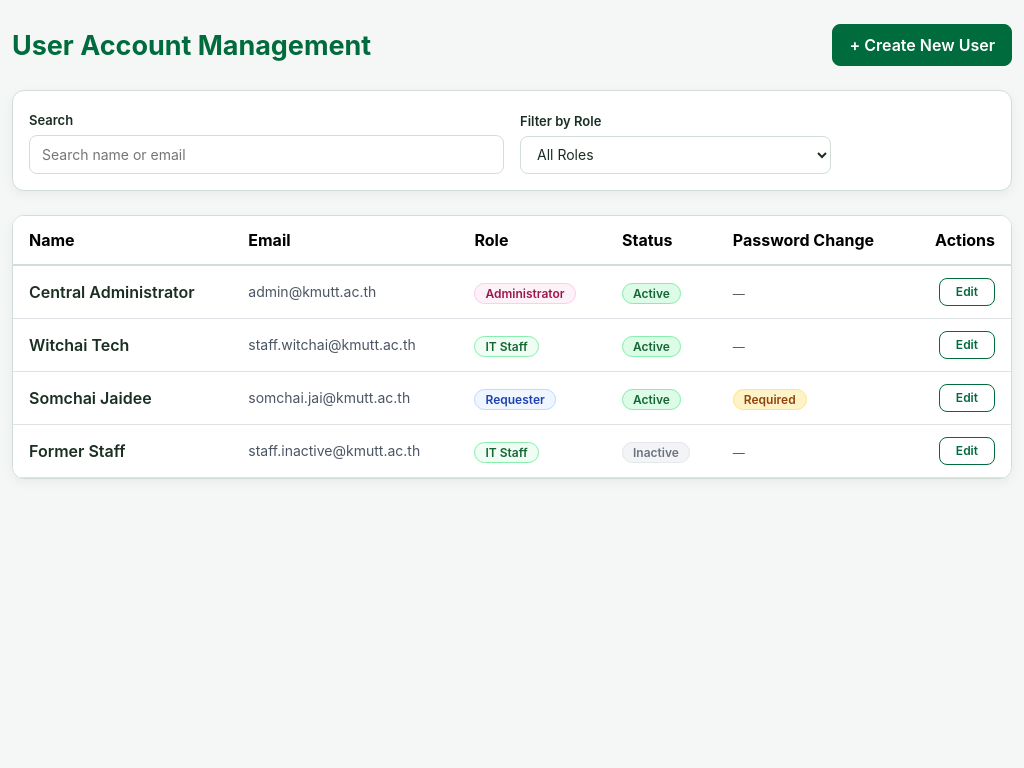
Test: Admin User Management Component UI Tests (ADMIN-UI-01, ADMIN-UI-02) › ADMIN-UI-02: Edit User Modal, Password Reset, and Deactivation Safety Checks › allows resetting initial password inside edit modal
This screenshot has width=1024, height=768.
Check: the text "Witchai Tech" is shown, box [13, 318, 232, 371]
Edit row for Witchai Tech
Click the button "Edit" in the row of "Witchai Tech" at (967, 344), box [939, 330, 995, 358]
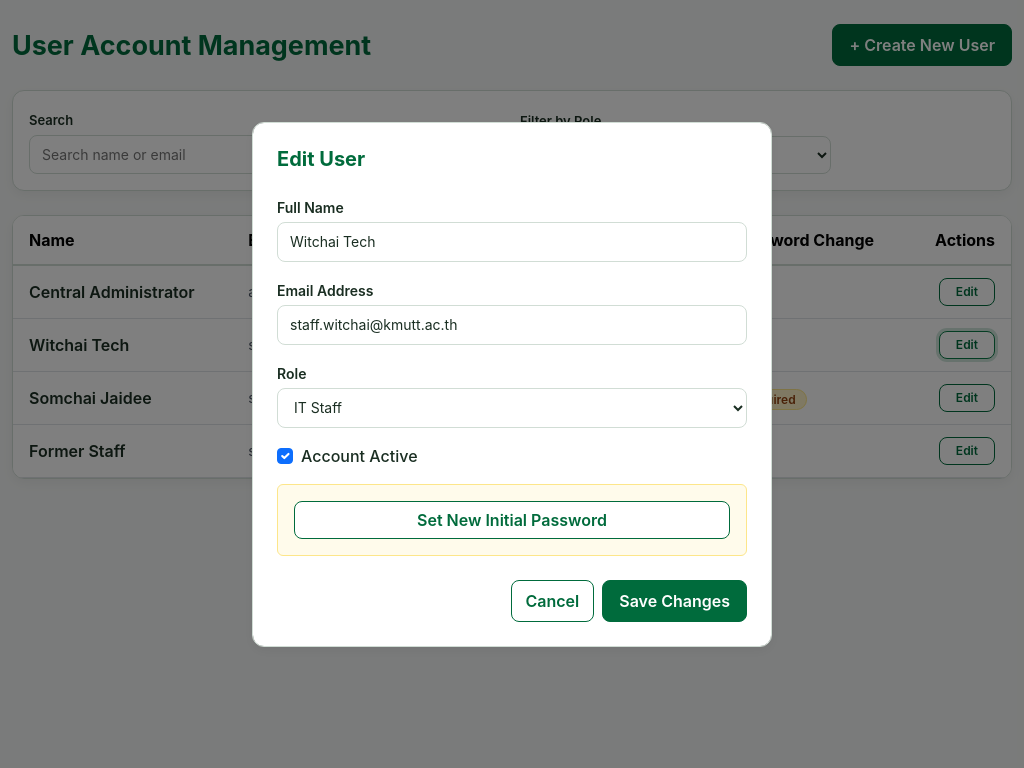
Open password reset section
Click the button "Set New Initial Password" at (512, 520), box [294, 500, 730, 538]
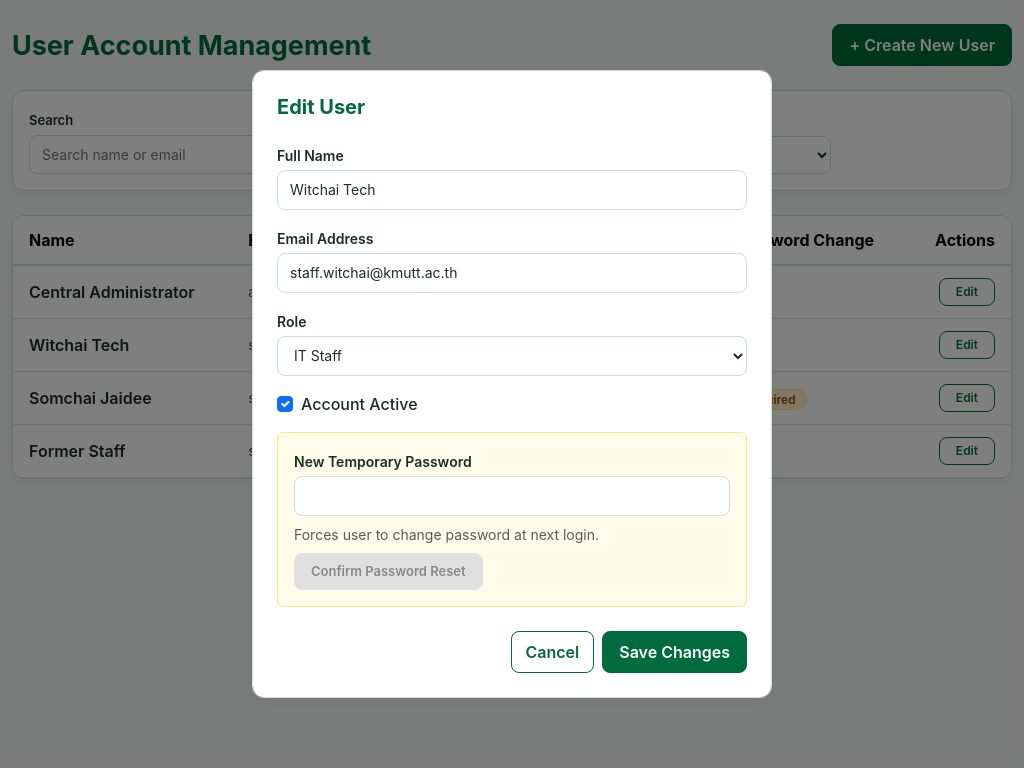
Type "NewTempPassword123!" into the password field labelled "New Temporary Password" at (512, 496), box [294, 476, 730, 516]
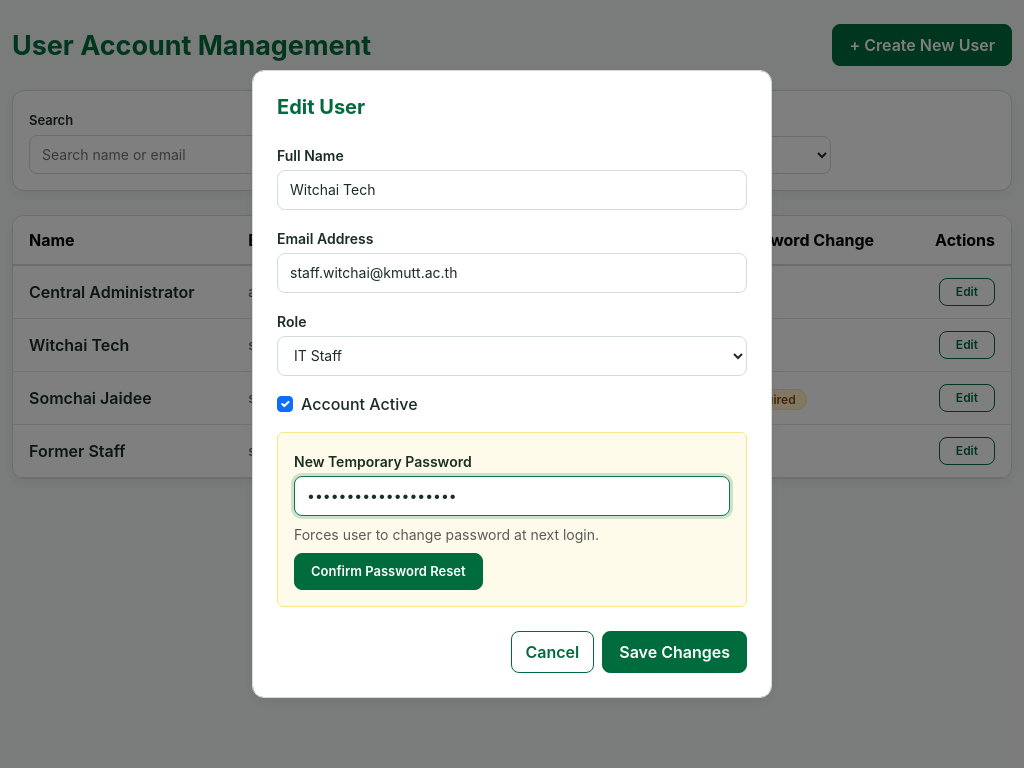
Click the button "Confirm Password Reset" at (388, 572), box [294, 553, 483, 590]
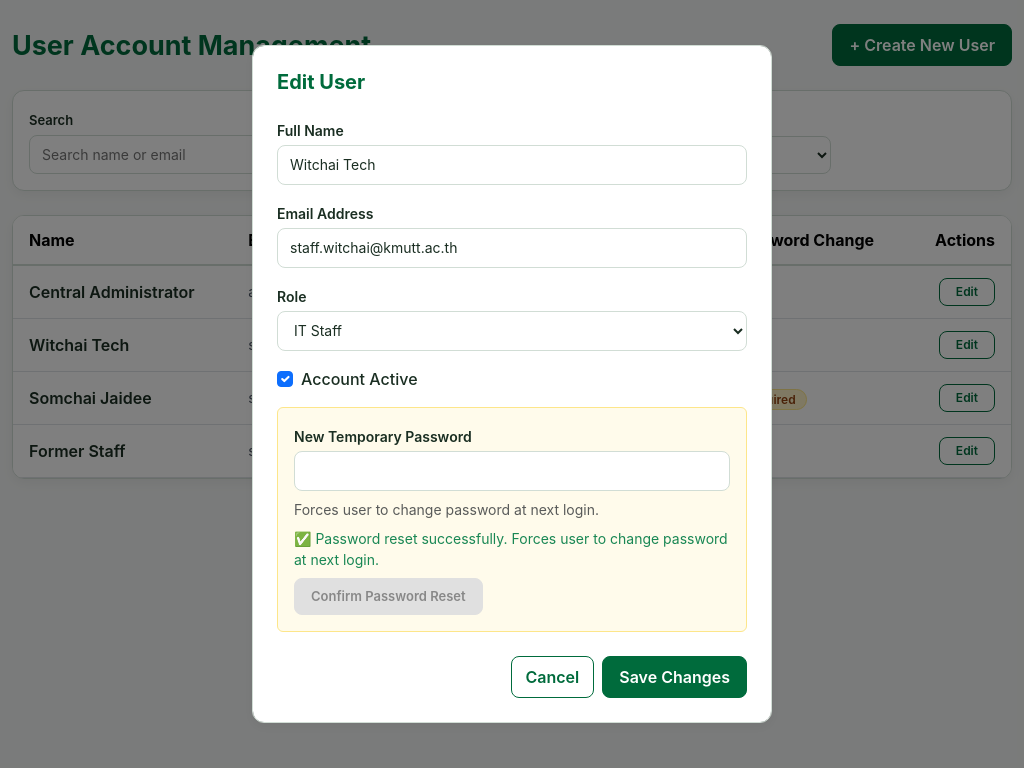
Check: the text "Password reset successfully" is shown, box [294, 530, 728, 568]
